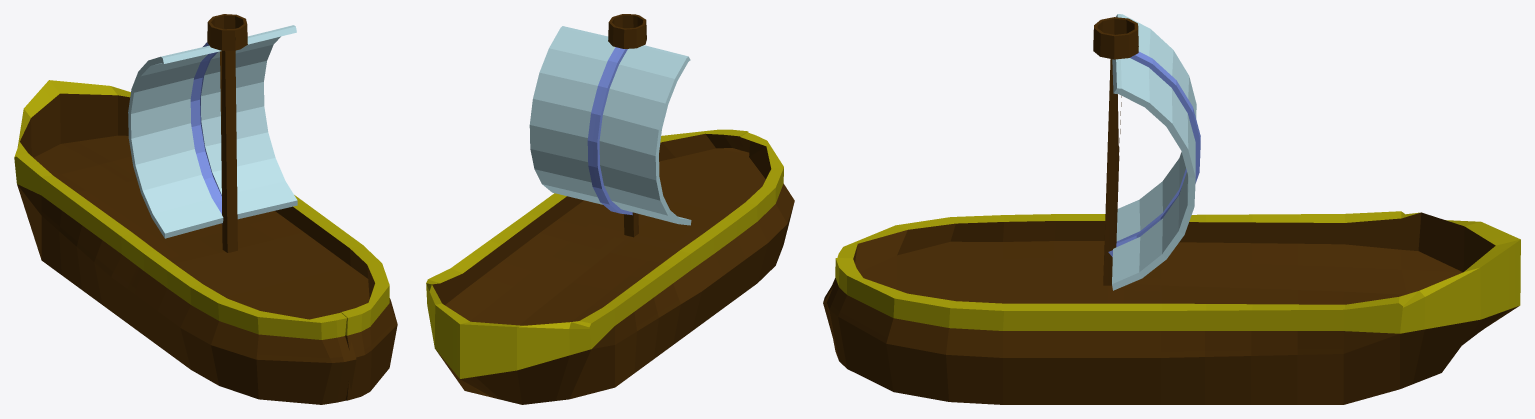
Rendered from Rudimentary_Galley2.fbx.
3 views of the same model, side by side, from view 1: azimuth 30°, elevation 25°; view 2: azimuth 150°, elevation 25°; view 3: azimuth 270°, elevation 25° (orthographic). The views are drawn at different scales.
Visible parts, largest first — view 1: Cube; view 2: Cube; view 3: Cube.
Part boxes in pixels (x1,y1,x2,y2): Cube: [14, 14, 397, 404]; Cube: [426, 14, 794, 404]; Cube: [823, 14, 1520, 404].
Size of the model in its own units: 4.45 by 6.67 by 12.38.
